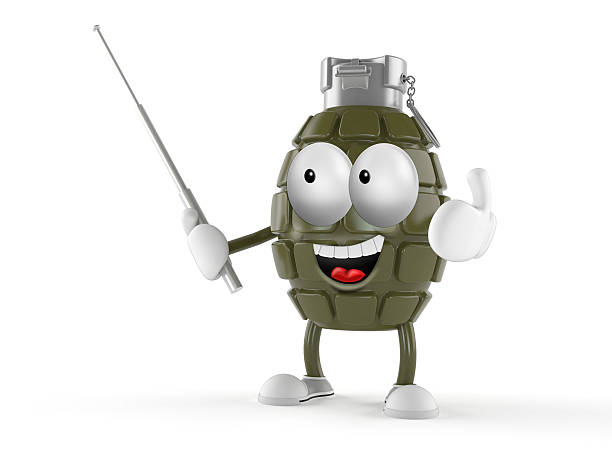e1: (266, 56, 450, 324)
